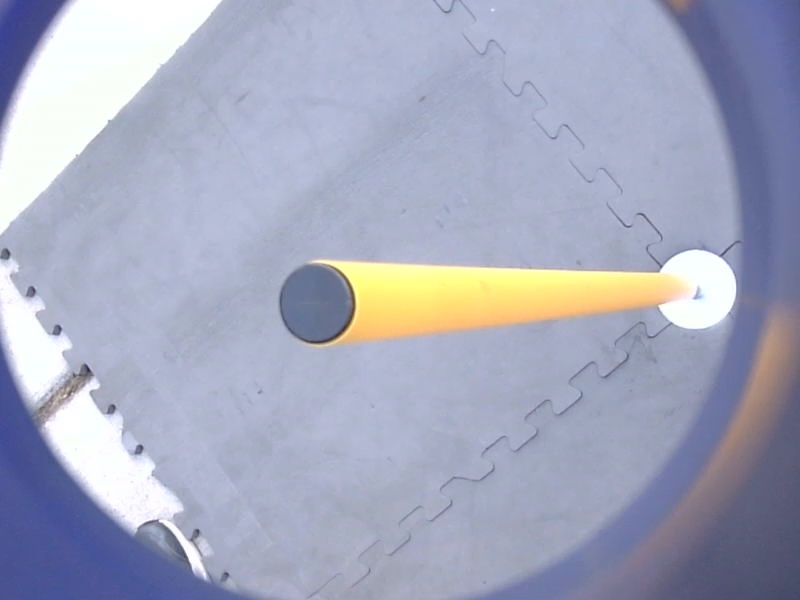tip: (271, 255, 365, 351)
